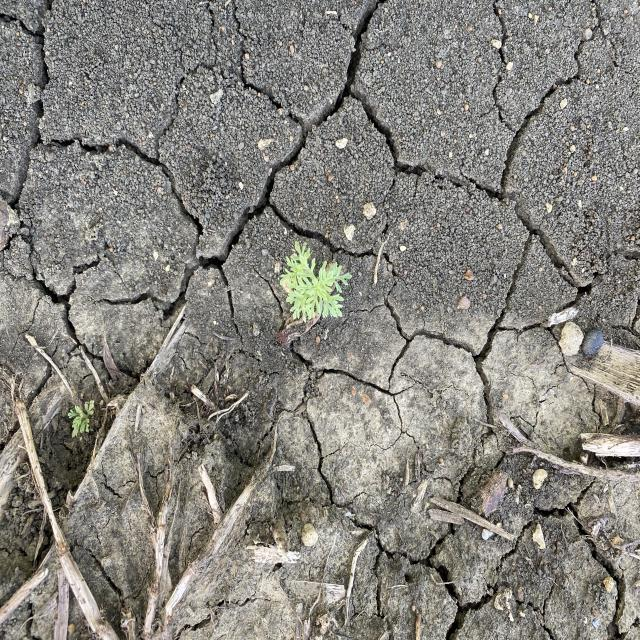Ragweed: (278, 240, 354, 324), (66, 400, 96, 438)
